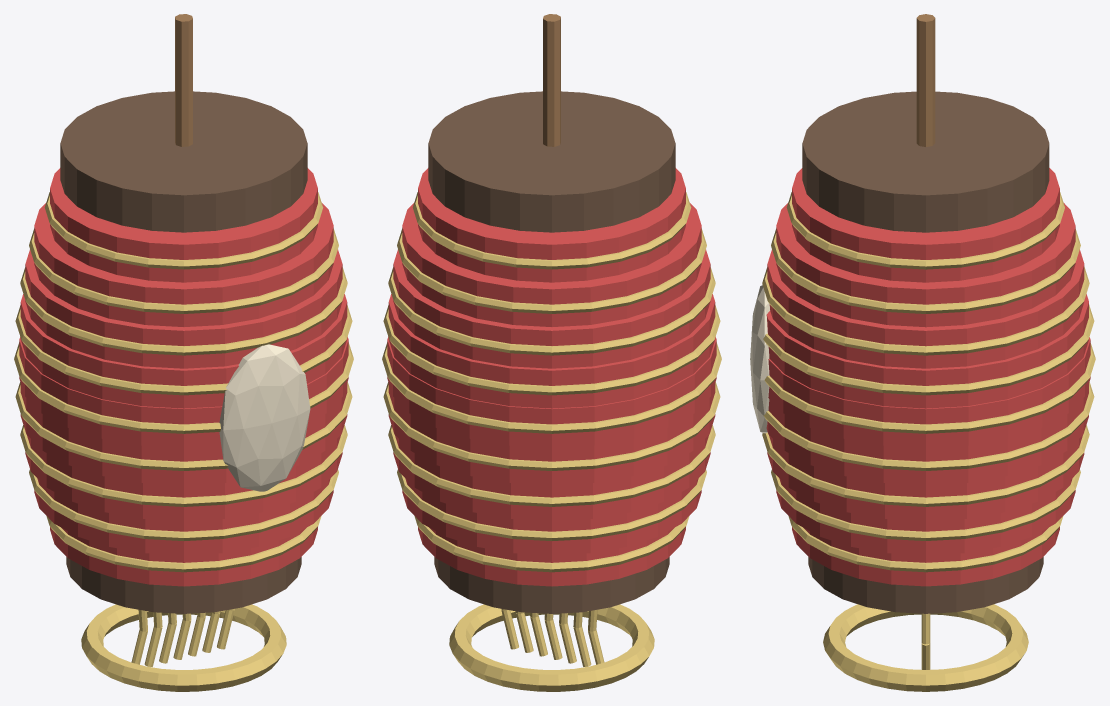
The model's file is ritual_chochin.glb.
3 renders of one model, left to right at view 1: azimuth 30°, elevation 25°; view 2: azimuth 150°, elevation 25°; view 3: azimuth 270°, elevation 25°, orthographic.
Visible parts, largest first — view 1: Festival red chouchin thin top, Festival red chouchin folded paper.007, Festival red chouchin folded paper.008, Festival red chouchin folded paper.006, Festival red chouchin painted crest, Festival red chouchin folded paper.005, Festival red chouchin folded paper.002, Festival red chouchin folded paper.004, Decorative cord coupler, Festival red chouchin folded paper.001, Festival red chouchin folded paper.003, Festival red chouchin bottom (+11 smaller); view 2: Festival red chouchin thin top, Festival red chouchin folded paper.007, Festival red chouchin folded paper.008, Festival red chouchin folded paper.006, Festival red chouchin folded paper.005, Festival red chouchin folded paper.004, Festival red chouchin folded paper.003, Festival red chouchin folded paper.002, Decorative cord coupler, Festival red chouchin folded paper.001, Festival red chouchin bottom, Festival red chouchin folded paper (+10 smaller); view 3: Festival red chouchin thin top, Festival red chouchin folded paper.007, Festival red chouchin folded paper.008, Festival red chouchin folded paper.006, Festival red chouchin folded paper.005, Festival red chouchin folded paper.004, Festival red chouchin folded paper.003, Festival red chouchin folded paper.002, Decorative cord coupler, Festival red chouchin folded paper.001, Festival red chouchin bottom, Festival red chouchin folded paper (+11 smaller).
Boxes of the visible parts, x1,y1,x2,y2 form: Festival red chouchin thin top: [60, 91, 307, 232]; Festival red chouchin folded paper.007: [34, 203, 333, 326]; Festival red chouchin folded paper.008: [50, 168, 317, 282]; Festival red chouchin folded paper.006: [25, 250, 342, 368]; Festival red chouchin painted crest: [219, 344, 310, 491]; Festival red chouchin folded paper.005: [20, 294, 347, 408]; Festival red chouchin folded paper.002: [25, 435, 342, 521]; Festival red chouchin folded paper.004: [19, 337, 348, 447]; Decorative cord coupler: [81, 604, 286, 691]; Festival red chouchin folded paper.001: [34, 478, 333, 555]; Festival red chouchin folded paper.003: [20, 383, 347, 485]; Festival red chouchin bottom: [66, 557, 301, 613]; Festival red chouchin thin top: [428, 91, 675, 232]; Festival red chouchin folded paper.007: [402, 203, 701, 326]; Festival red chouchin folded paper.008: [418, 168, 685, 282]; Festival red chouchin folded paper.006: [393, 250, 710, 368]; Festival red chouchin folded paper.005: [388, 294, 715, 408]; Festival red chouchin folded paper.004: [387, 337, 716, 447]; Festival red chouchin folded paper.003: [388, 383, 715, 485]; Festival red chouchin folded paper.002: [393, 435, 710, 521]; Decorative cord coupler: [449, 604, 654, 691]; Festival red chouchin folded paper.001: [402, 478, 701, 555]; Festival red chouchin bottom: [434, 557, 669, 613]; Festival red chouchin folded paper: [418, 527, 685, 586]; Festival red chouchin thin top: [802, 91, 1049, 232]; Festival red chouchin folded paper.007: [776, 203, 1075, 327]; Festival red chouchin folded paper.008: [792, 168, 1059, 282]; Festival red chouchin folded paper.006: [767, 249, 1084, 368]; Festival red chouchin folded paper.005: [766, 294, 1088, 408]; Festival red chouchin folded paper.004: [768, 337, 1090, 447]; Festival red chouchin folded paper.003: [766, 384, 1088, 485]; Festival red chouchin folded paper.002: [767, 435, 1084, 520]; Decorative cord coupler: [823, 604, 1028, 691]; Festival red chouchin folded paper.001: [776, 478, 1075, 555]; Festival red chouchin bottom: [808, 557, 1043, 613]; Festival red chouchin folded paper: [792, 527, 1059, 586].
Bounding box in the file's own units: 0.9387 × 1.95 × 0.9549.
